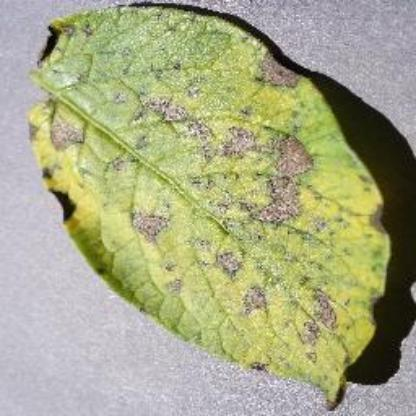Early-Blight: (33, 5, 385, 403)
